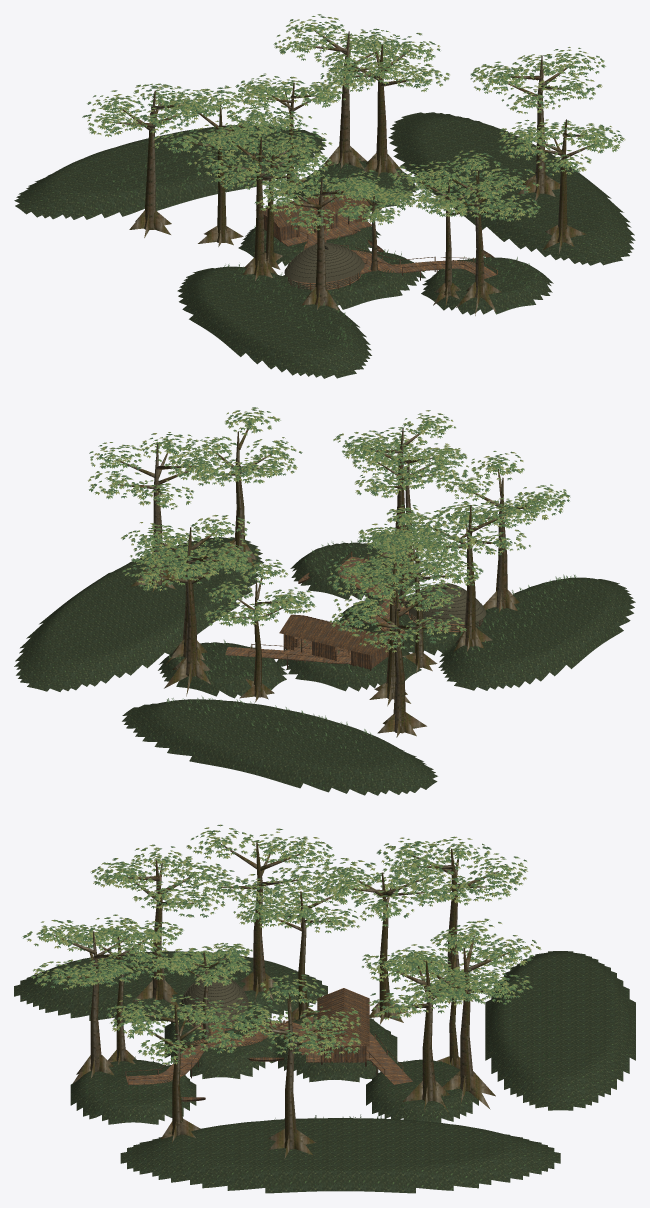
The model's file is amazonia.glb.
3 renders of one model, top to bottom at view 1: azimuth 30°, elevation 25°; view 2: azimuth 150°, elevation 25°; view 3: azimuth 270°, elevation 25°, orthographic. The views are drawn at different scales.
Visible parts, largest first — view 1: Earth, LeafLight, LeafDeep, LeafMid, Bark, Timber, Thatch, DarkTimber, Grass; view 2: Earth, LeafDeep, LeafMid, LeafLight, Bark, Timber, DarkTimber, Thatch, Grass; view 3: Earth, LeafMid, LeafDeep, LeafLight, Bark, Timber, DarkTimber, Thatch, Grass.
Part boxes in pixels (box(x1,y1,x2,y2)): Earth: box(14, 112, 635, 378); LeafLight: box(85, 16, 624, 233); LeafDeep: box(82, 14, 623, 233); LeafMid: box(87, 14, 625, 230); Bark: box(113, 30, 594, 315); Timber: box(263, 181, 496, 290); Thatch: box(284, 242, 364, 289); DarkTimber: box(265, 188, 497, 290); Grass: box(96, 135, 539, 347); Earth: box(14, 537, 635, 795); LeafDeep: box(89, 407, 570, 650); LeafMid: box(89, 407, 568, 652); LeafLight: box(88, 409, 568, 652); Bark: box(116, 424, 539, 737); Timber: box(225, 556, 464, 669); DarkTimber: box(232, 551, 482, 670); Thatch: box(405, 583, 486, 630); Grass: box(166, 539, 579, 751); Earth: box(14, 951, 635, 1193); LeafMid: box(22, 828, 541, 1064); LeafDeep: box(23, 825, 538, 1064); LeafLight: box(26, 824, 540, 1064); Bark: box(54, 841, 509, 1158); Timber: box(126, 988, 412, 1099); DarkTimber: box(125, 988, 409, 1101); Thatch: box(181, 975, 248, 1029); Grass: box(50, 971, 560, 1119).
Bounding box in the file's own units: 91.76 × 28.87 × 99.
Materials: 10 (6 with a texture image).
